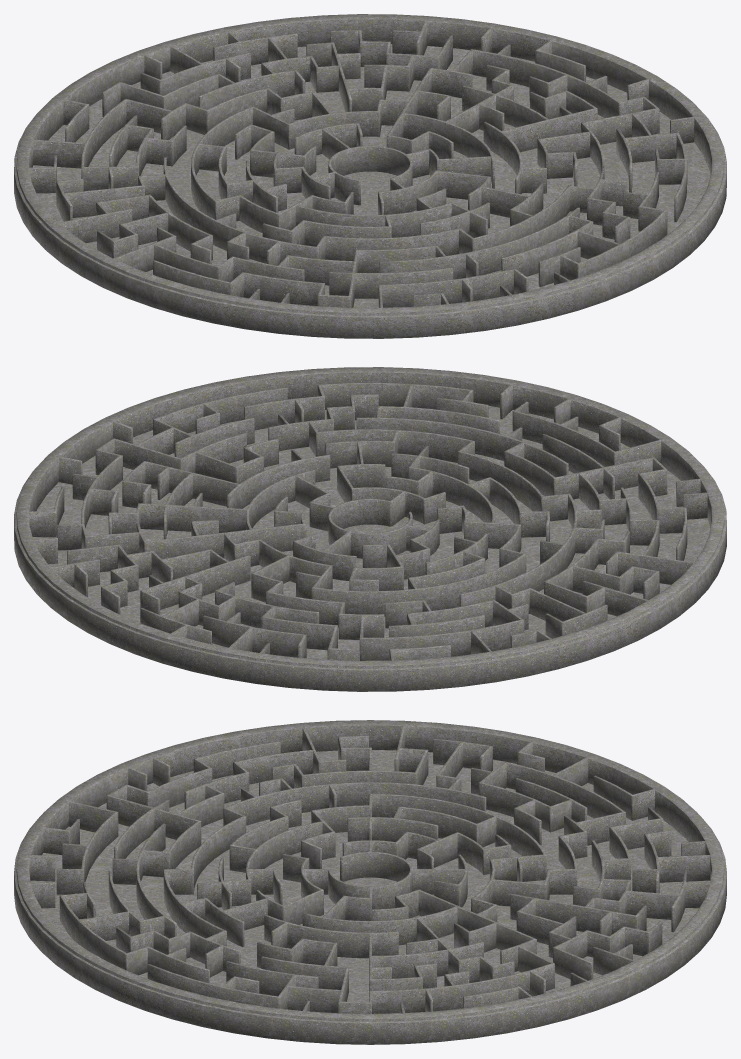
The model's file is maze.obj.
The picture shows the model from 3 angles, top to bottom: view 1: azimuth 30°, elevation 25°; view 2: azimuth 150°, elevation 25°; view 3: azimuth 270°, elevation 25°; orthographic projection.
Parts seen in each view (by area): view 1: maze:Mesh; view 2: maze:Mesh; view 3: maze:Mesh.
Boxes of the visible parts, bbox=[...] form: maze:Mesh: bbox=[14, 14, 726, 338]; maze:Mesh: bbox=[14, 367, 726, 691]; maze:Mesh: bbox=[14, 720, 726, 1044].
Bounding box in the file's own units: 9.98 × 0.403 × 9.98.
